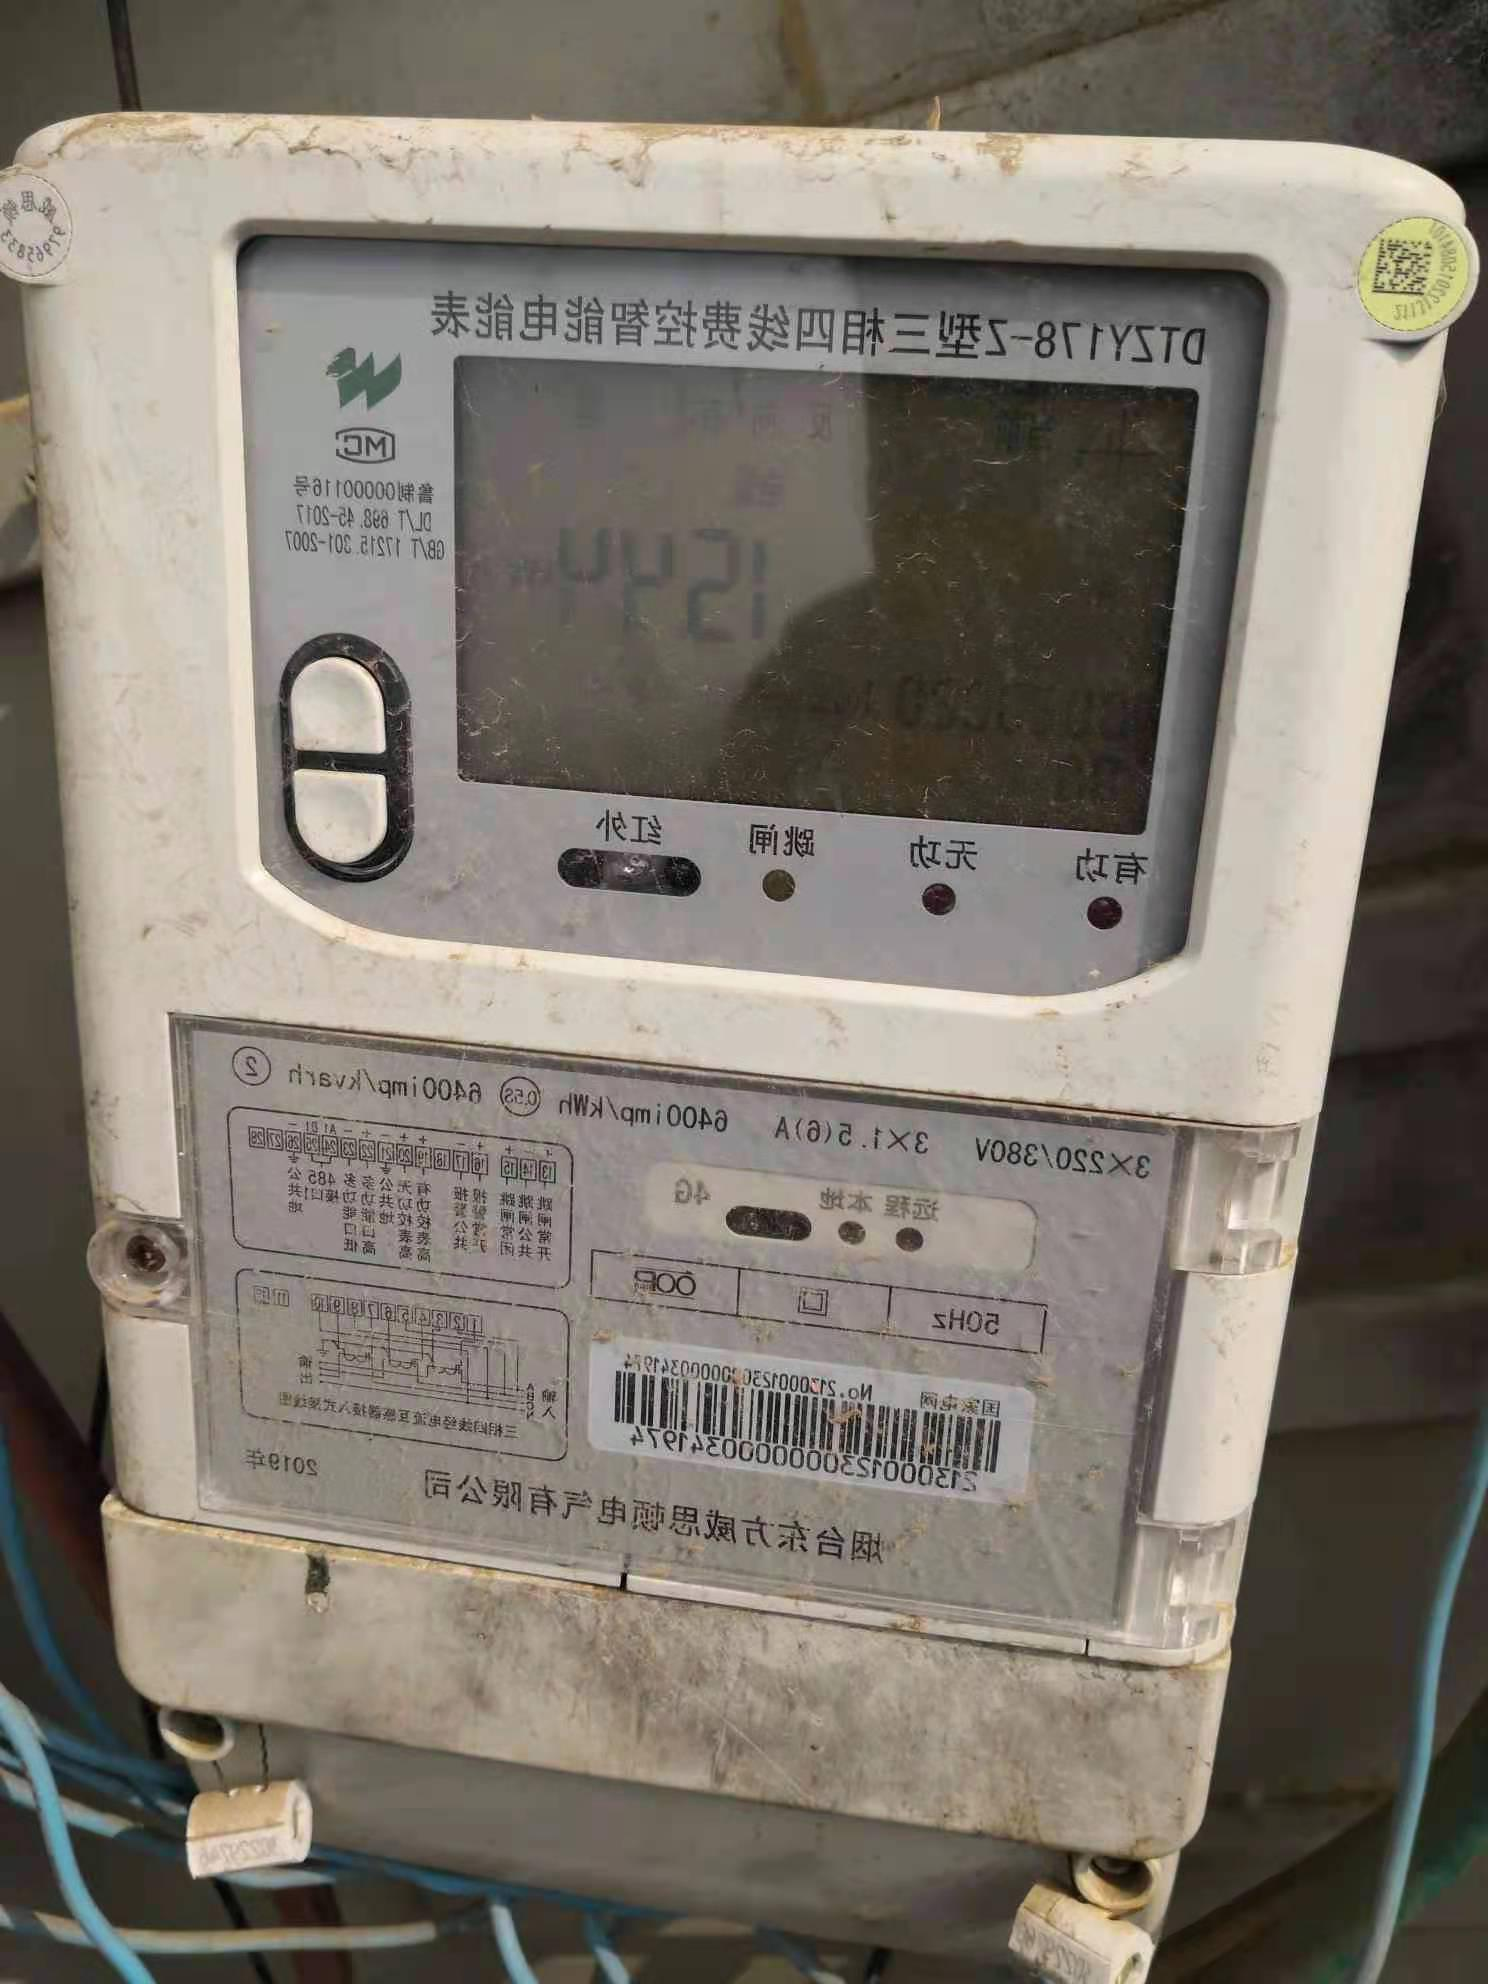digital: (8, 116, 1443, 1862)
